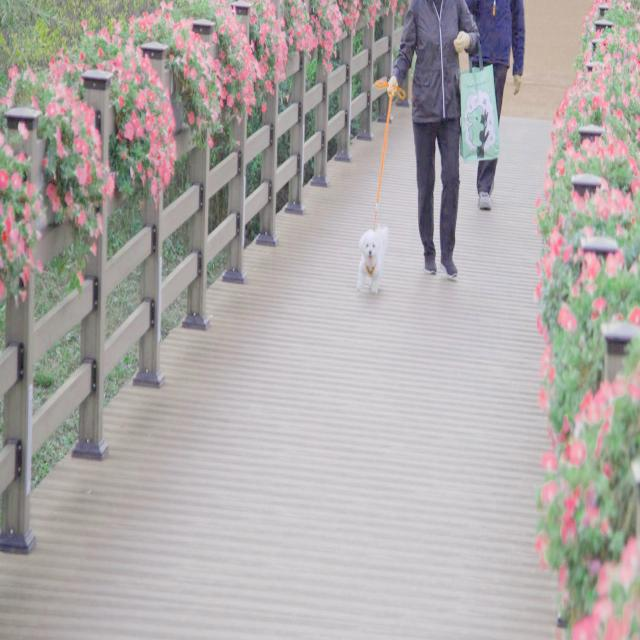Leashed_Dog: (356, 76, 427, 295)
